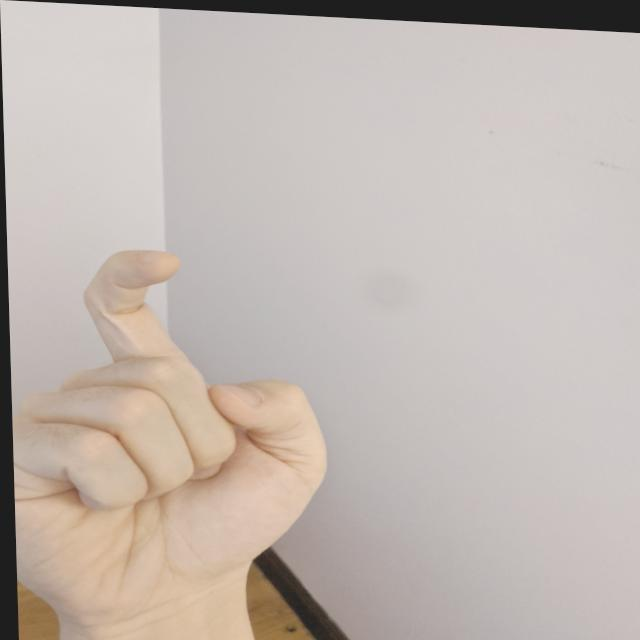X: (6, 239, 339, 634)
